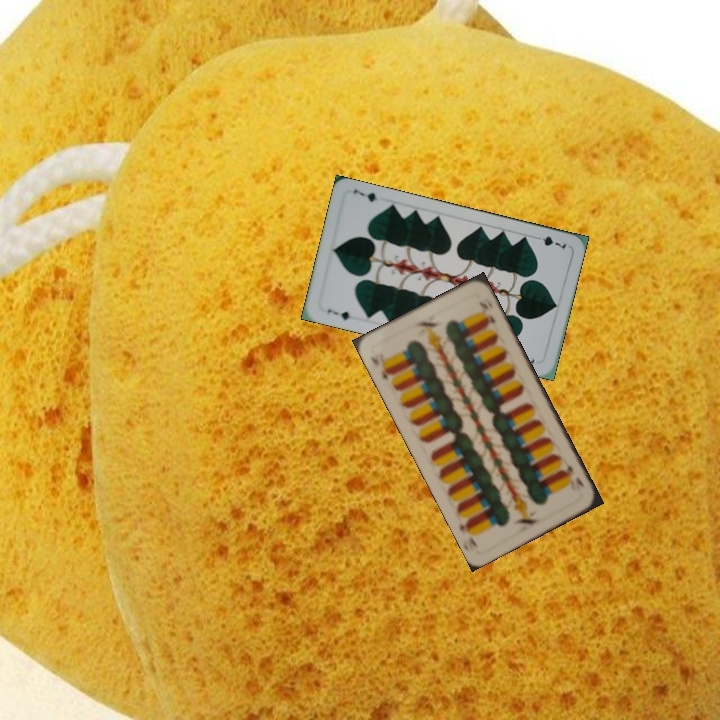E10: (367, 352, 395, 383), (560, 460, 587, 490)
G7: (530, 232, 569, 251), (323, 305, 358, 323)
